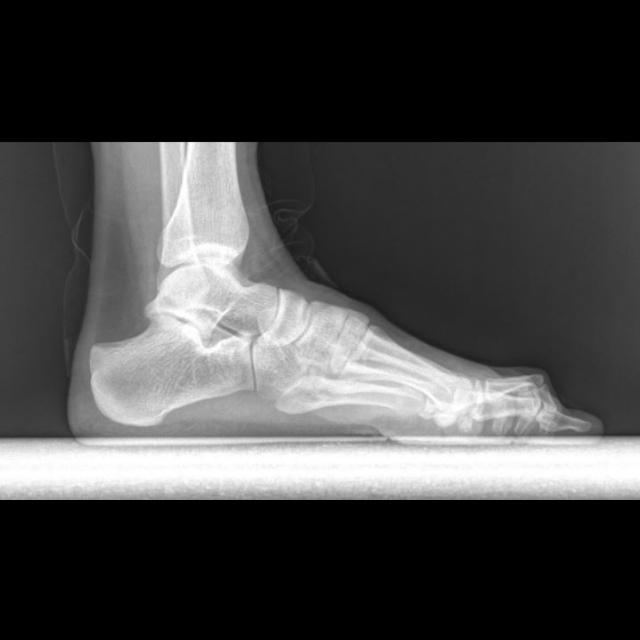a: (90, 313, 255, 426)
b: (261, 287, 311, 348)
c: (337, 324, 477, 412)
